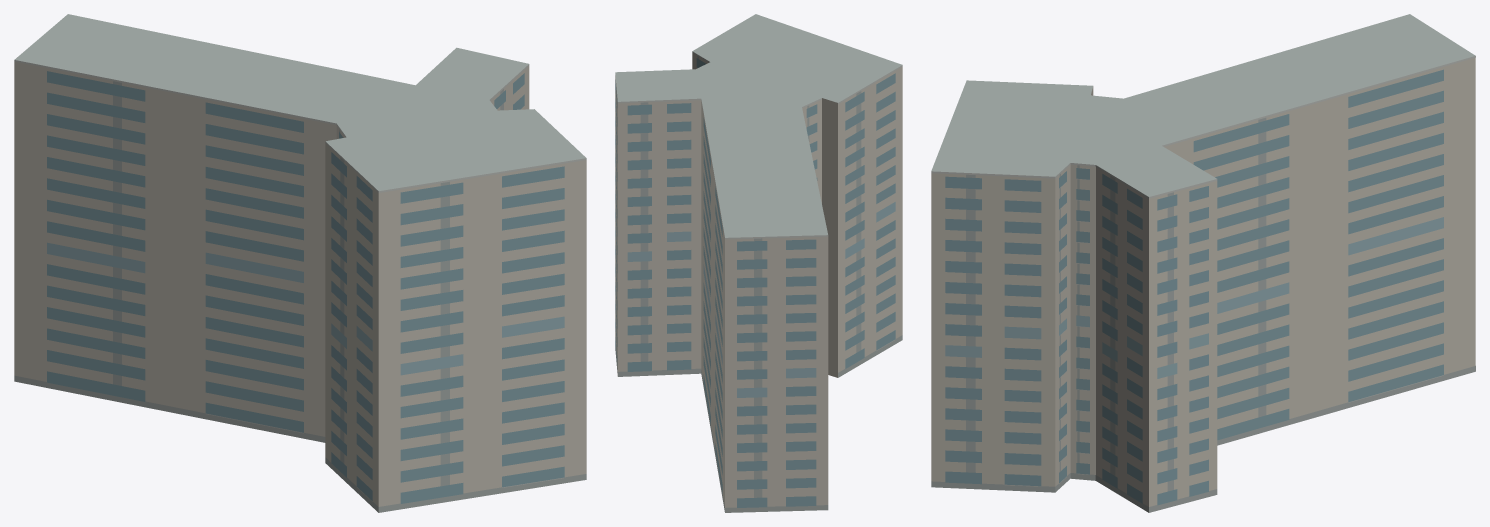
The model's file is residential-39c89f4c-b6a9-446c-b060-2b9d38f04114.glb.
The picture shows the model from 3 angles, left to right: view 1: azimuth 30°, elevation 25°; view 2: azimuth 150°, elevation 25°; view 3: azimuth 270°, elevation 25°; orthographic projection. The views are drawn at different scales.
Visible parts, largest first — view 1: residential-39c89f4c-b6a9-446c-b060-2b9d38f04114.tmp; view 2: residential-39c89f4c-b6a9-446c-b060-2b9d38f04114.tmp; view 3: residential-39c89f4c-b6a9-446c-b060-2b9d38f04114.tmp.
Part boxes in pixels (x1,y1,x2,y2): residential-39c89f4c-b6a9-446c-b060-2b9d38f04114.tmp: (14,14,586,512); residential-39c89f4c-b6a9-446c-b060-2b9d38f04114.tmp: (615,14,902,512); residential-39c89f4c-b6a9-446c-b060-2b9d38f04114.tmp: (931,14,1475,512).
Size of the model in its own units: 53.45 by 43 by 67.2.
